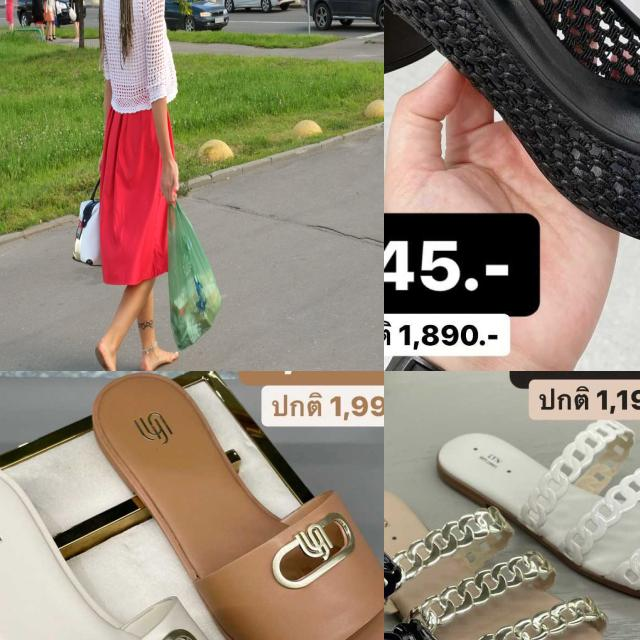Barefoots: (140, 348, 178, 371), (95, 339, 121, 371)
Sandals: (65, 371, 384, 640), (384, 0, 640, 280), (0, 453, 319, 640), (407, 375, 640, 631), (384, 450, 640, 640), (384, 489, 555, 640)
